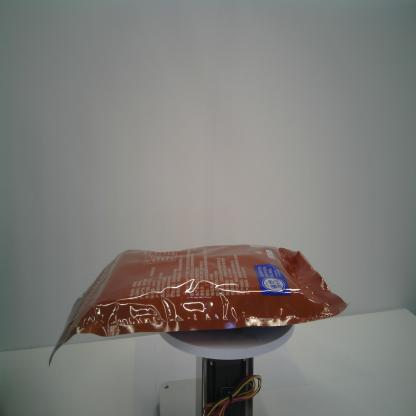Dried Food: (47, 242, 350, 366)
